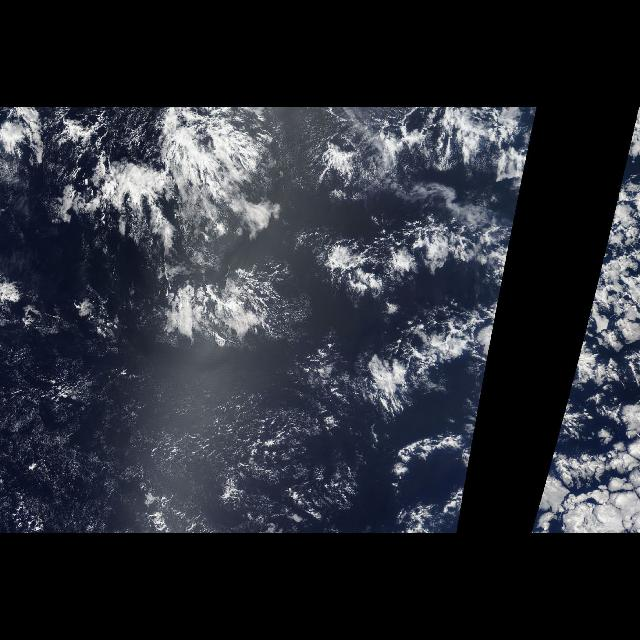Flower: (359, 118, 536, 524), (532, 118, 636, 524)
Sugar: (1, 348, 356, 532)
